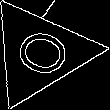O_SE: (4, 22, 75, 83)
